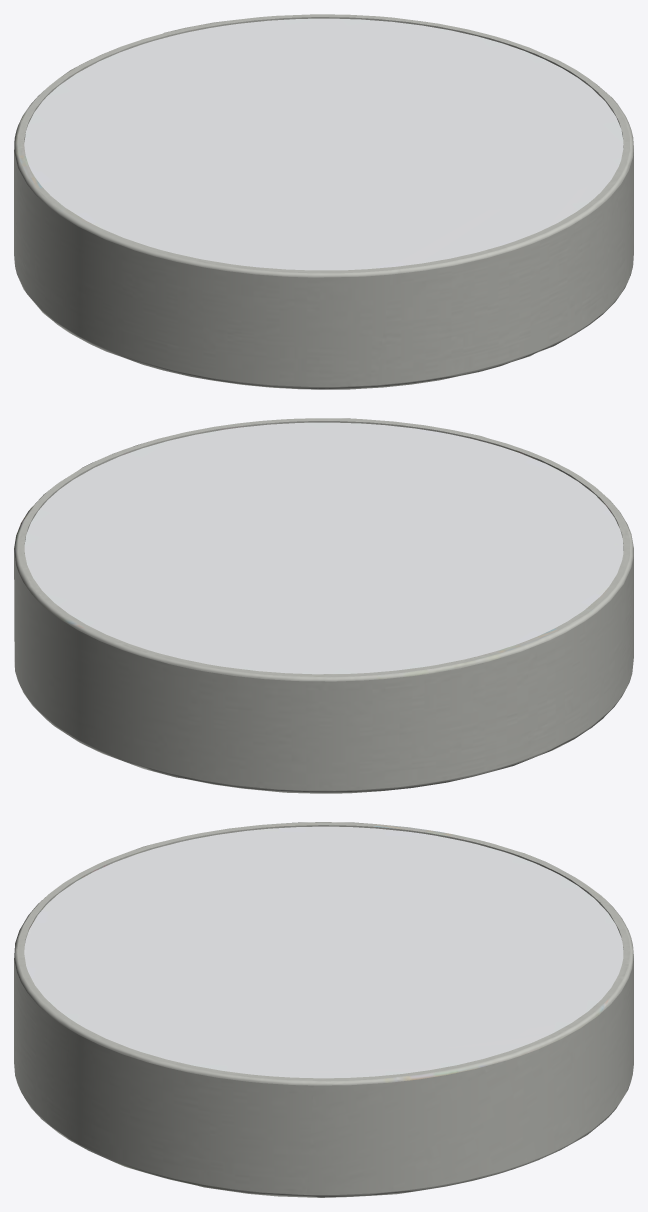
The model's file is virrmo_lampa_sufitowa_led_70430780.glb.
3 renders of one model, top to bottom at view 1: azimuth 30°, elevation 25°; view 2: azimuth 150°, elevation 25°; view 3: azimuth 270°, elevation 25°, orthographic.
Visible parts, largest first — view 1: virrmo_lampa_sufitowa_led_70430780; view 2: virrmo_lampa_sufitowa_led_70430780; view 3: virrmo_lampa_sufitowa_led_70430780.
Part boxes in pixels (x1,y1,x2,y2): virrmo_lampa_sufitowa_led_70430780: (14,14,633,389); virrmo_lampa_sufitowa_led_70430780: (14,418,633,793); virrmo_lampa_sufitowa_led_70430780: (14,822,633,1197).
Size of the model in its own units: 0.365 by 0.0777 by 0.3651.
2 materials, 2 textured.
